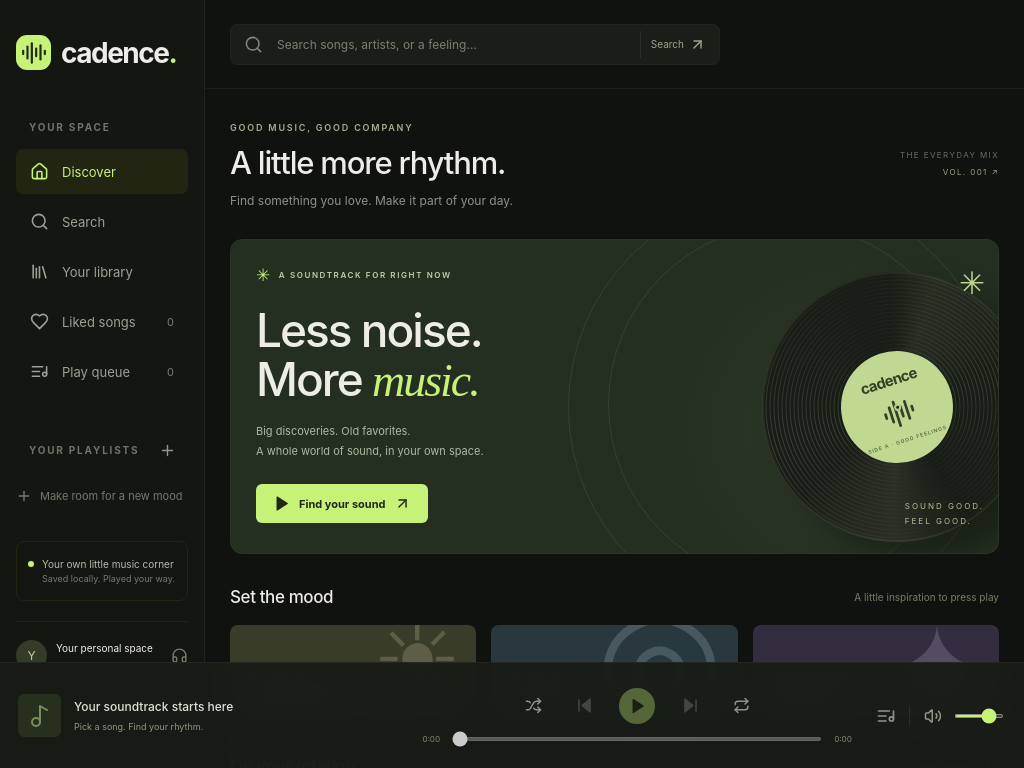
music app › shows a retry action for failed search
Type "Ocean" into the field named "Search YouTube".
click(451, 44); type("Ocean")  # box [275,36,628,52]
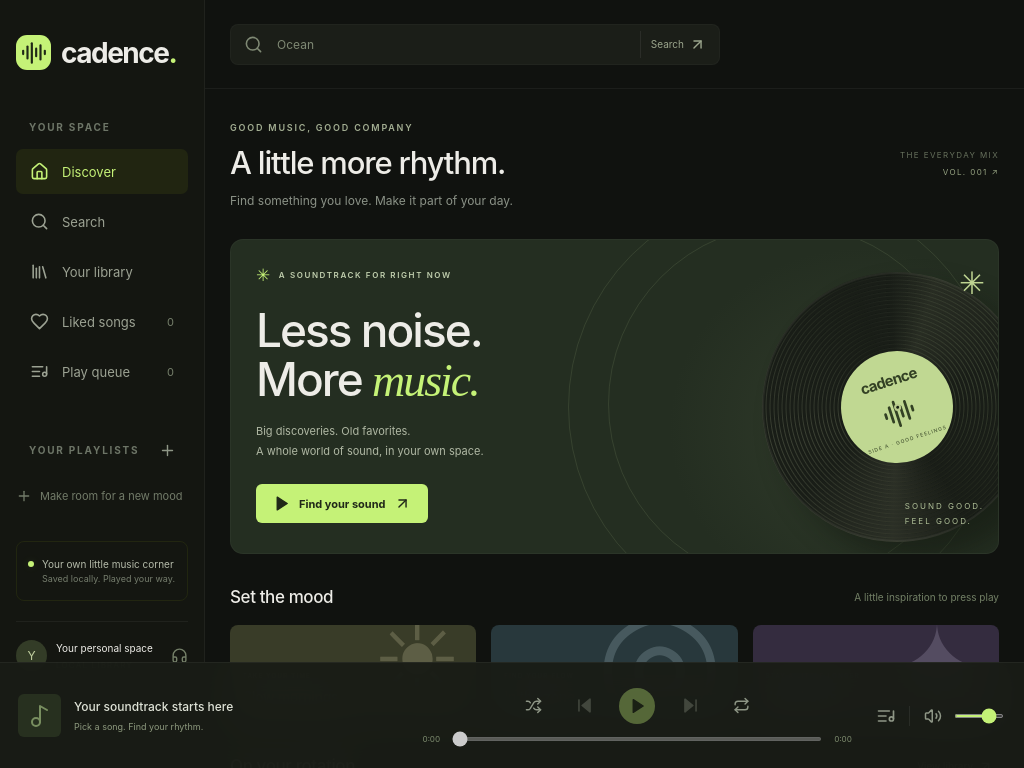
Click the button with aria-label "Submit search".
click(673, 44)  # box [640,30,706,58]
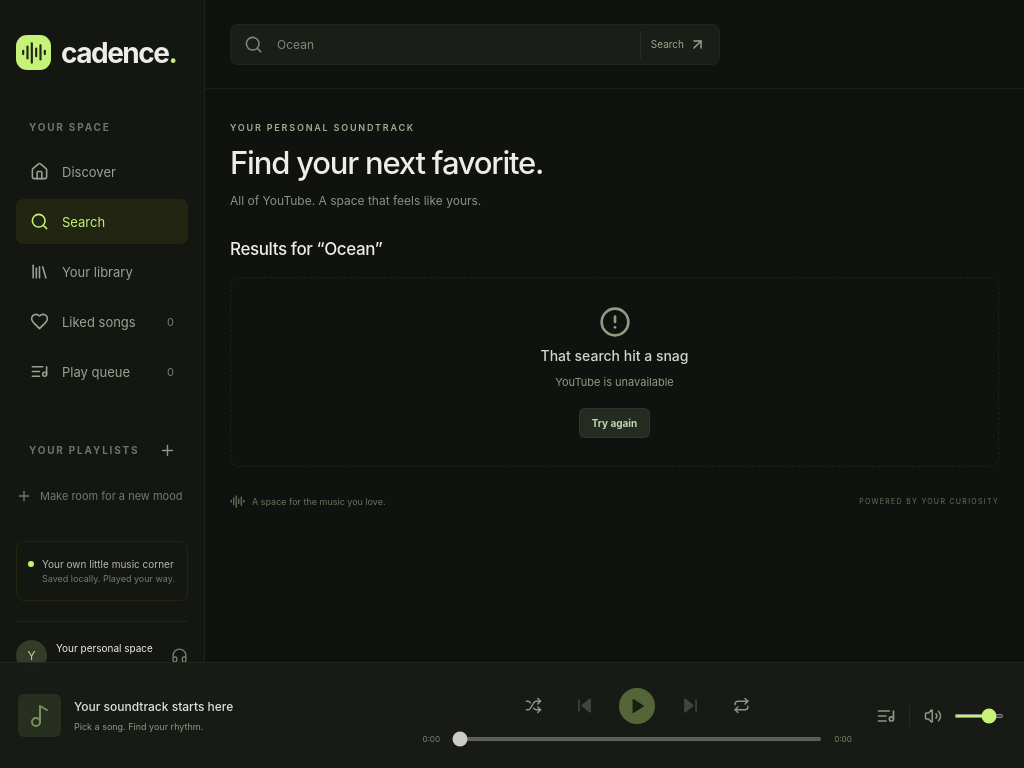
Result: the text "YouTube is unavailable" is shown at [555,373,674,392]
Result: the button "Try again" is shown at [579,408,650,438]
